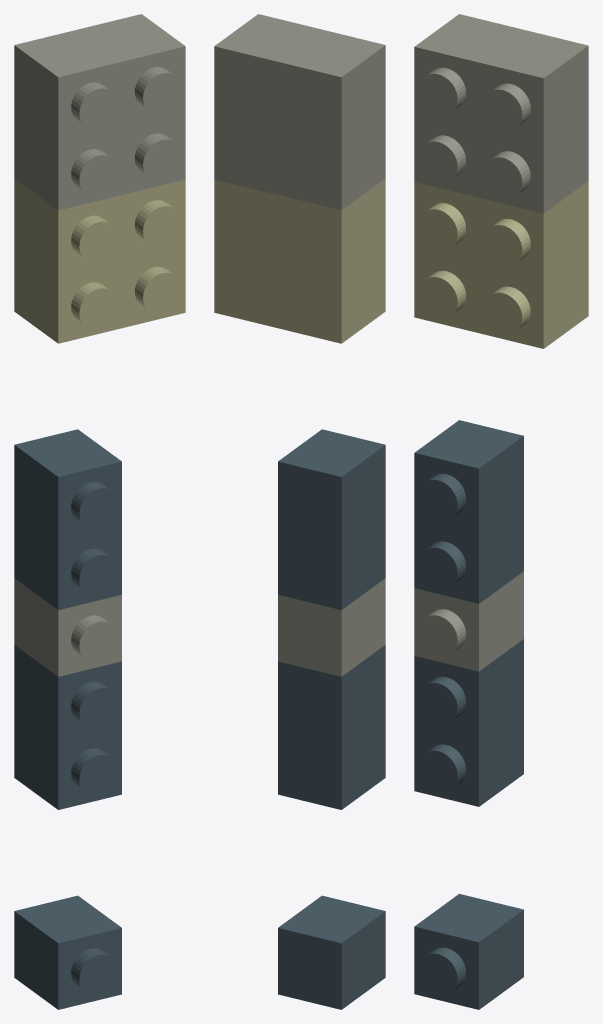
The model's file is current.glb.
The picture shows the model from 3 angles, left to right: view 1: azimuth 30°, elevation 25°; view 2: azimuth 150°, elevation 25°; view 3: azimuth 330°, elevation 25°; orthographic projection.
Parts seen in each view (by area): view 1: world; view 2: world; view 3: world.
Part boxes in pixels (x1=…): world: x1=14, y1=14, x2=185, y2=1009; world: x1=214, y1=14, x2=385, y2=1009; world: x1=414, y1=14, x2=588, y2=1009.
Size of the model in its own units: 16 by 112 by 11.4.
